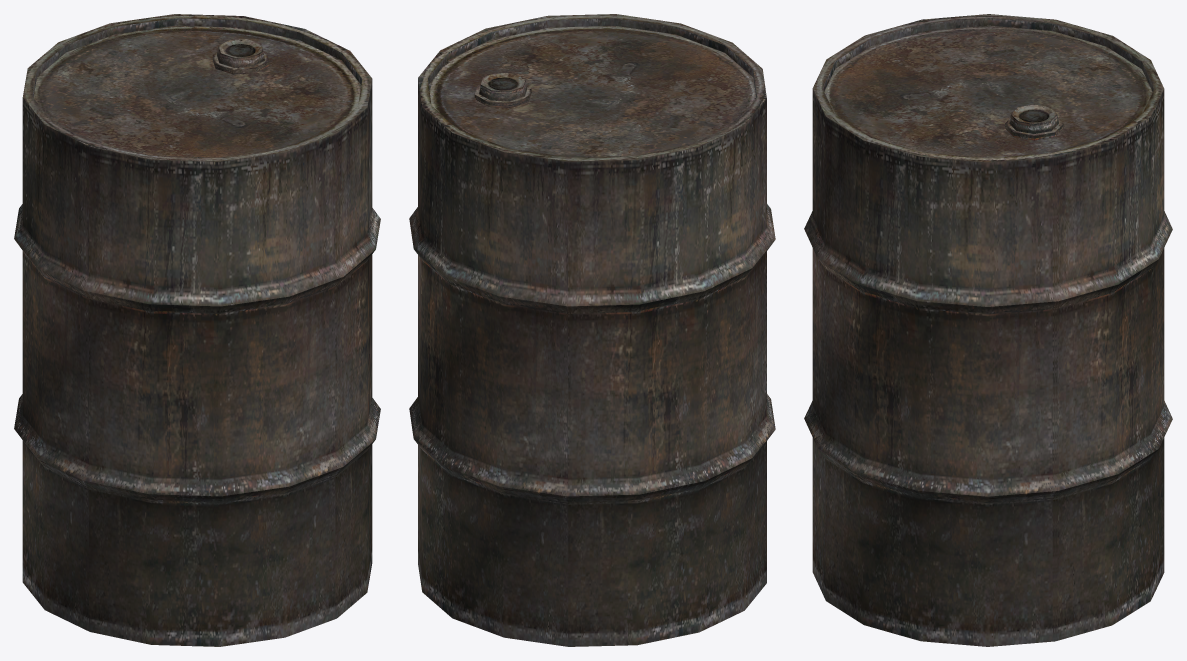
Rendered from free_stalker_barrel_pack_-_low-poly_props.glb.
The picture shows the model from 3 angles, left to right: view 1: azimuth 30°, elevation 25°; view 2: azimuth 150°, elevation 25°; view 3: azimuth 270°, elevation 25°; orthographic projection.
Visible parts, largest first — view 1: barrel_close_1; view 2: barrel_close_1; view 3: barrel_close_1.
Part boxes in pixels (x1=…): barrel_close_1: x1=14, y1=14, x2=380, y2=646; barrel_close_1: x1=409, y1=14, x2=775, y2=646; barrel_close_1: x1=804, y1=14, x2=1172, y2=646.
Size of the model in its own units: 0.7414 by 1.09 by 0.7414.
Materials: 1 (1 with a texture image).
